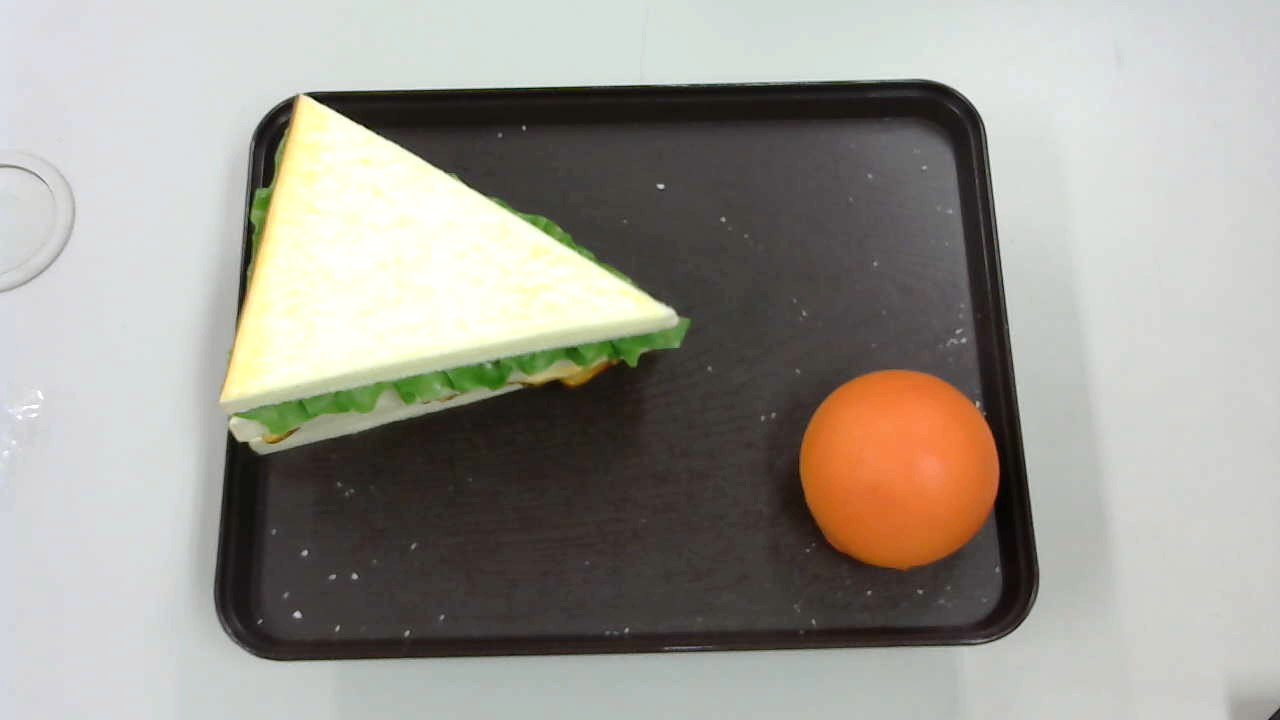bun: (798, 367, 1000, 572)
sandwich: (219, 93, 690, 457)
